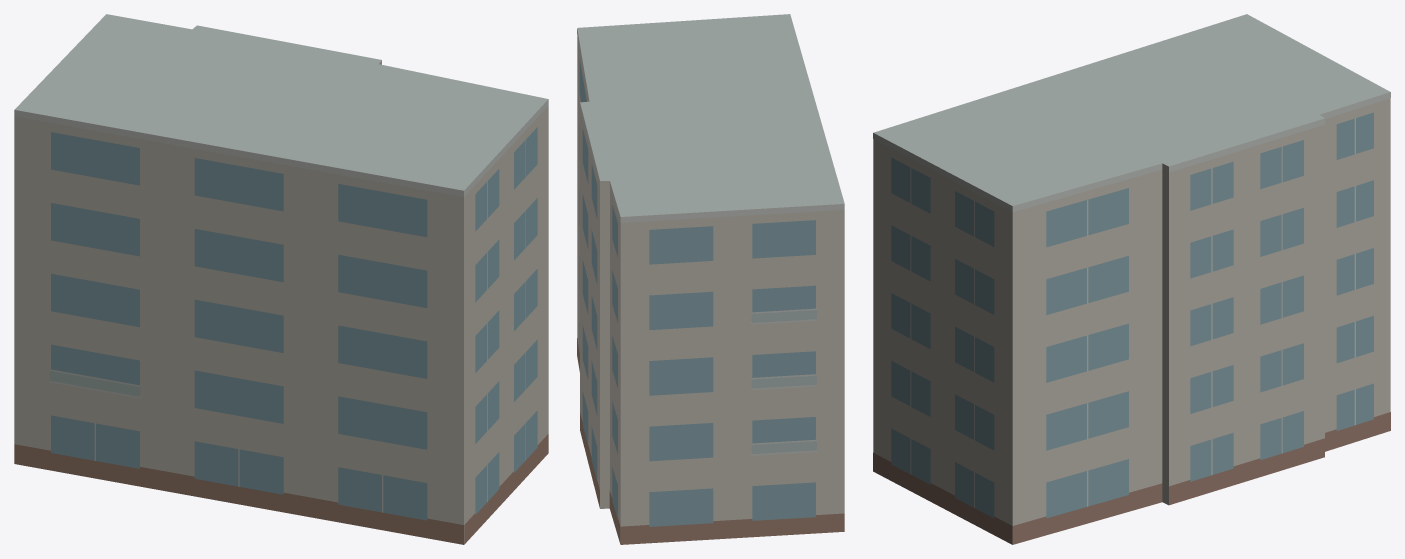
Rendered from survey-upis-32937222.glb.
3 views of the same model, side by side, from view 1: azimuth 30°, elevation 25°; view 2: azimuth 150°, elevation 25°; view 3: azimuth 270°, elevation 25° (orthographic). The views are drawn at different scales.
Visible parts, largest first — view 1: survey-upis-32937222.tmp; view 2: survey-upis-32937222.tmp; view 3: survey-upis-32937222.tmp.
Part boxes in pixels (x1,y1,x2,y2): survey-upis-32937222.tmp: (14, 14, 548, 544); survey-upis-32937222.tmp: (577, 14, 844, 544); survey-upis-32937222.tmp: (873, 14, 1390, 544).
Size of the model in its own units: 16.43 by 13.5 by 18.7.
